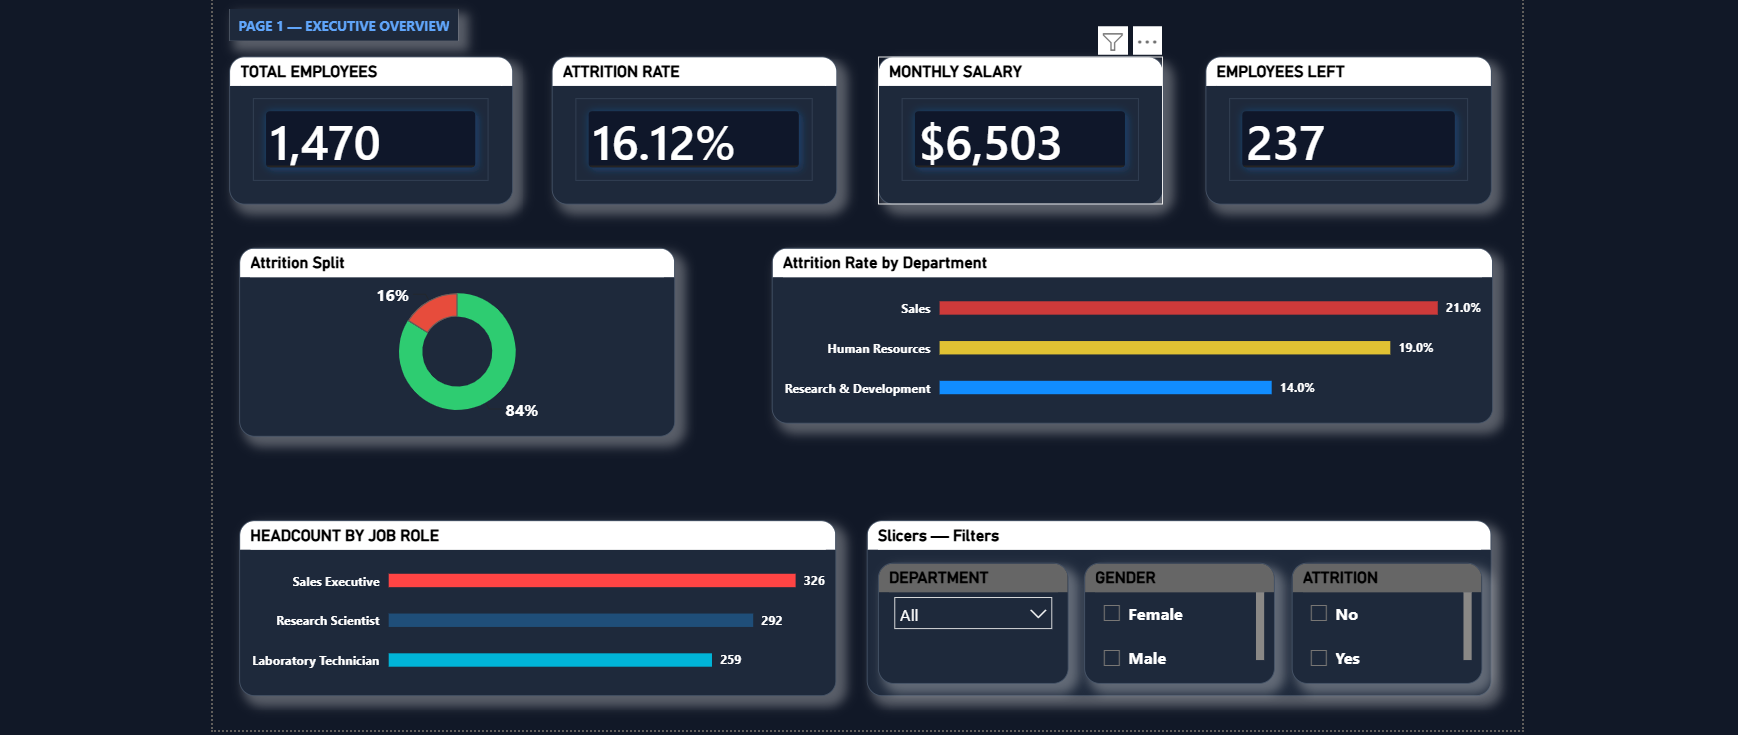

This screenshot's page, from the dashboard's own definition file:
{"tool":"powerbi","page":{"name":"EXECUTIVE OVERVIEW","canvas":[1280,720],"ordinal":0},"visuals":[{"type":"cardVisual","title":"TOTAL EMPLOYEES","fields":{"Data":["powerbi_cost_analysis.Total Employees"]},"box":[15.6,61.3,277.7,144.7],"z":0},{"type":"cardVisual","title":"ATTRITION RATE","fields":{"Data":["powerbi_cost_analysis.Attrition Rate"]},"box":[331.1,61.3,279,144.7],"z":1000},{"type":"cardVisual","title":"MONTHLY SALARY","fields":{"Data":["powerbi_cost_analysis.Avg Salary Display"]},"box":[650.6,61.3,279,144.7],"z":2000},{"type":"cardVisual","title":"EMPLOYEES LEFT","fields":{"Data":["Sum(powerbi_cost_analysis.Employees_Left)"]},"box":[971.3,61.3,280.3,144.7],"z":3000},{"type":"shape","title":"PAGE 1 — EXECUTIVE OVERVIEW","box":[15.6,14.3,224.2,31.3],"z":4000},{"type":"donutChart","title":"Attrition Split ","fields":{"Category":["powerbi_main_data.Attrition"],"Y":["CountNonNull(powerbi_main_data.EmployeeNumber)"]},"box":[26.1,247.7,426.3,185.1],"z":5000},{"type":"clusteredBarChart","title":"Attrition Rate by Department","fields":{"Y":["powerbi_dept_summary.Attrition Rate %"],"Category":["powerbi_dept_summary.Department"]},"box":[546.3,247.7,705.3,172.1],"z":6000},{"type":"clusteredBarChart","title":"HEADCOUNT BY JOB ROLE","fields":{"Y":["CountNonNull(powerbi_main_data.EmployeeNumber)"],"Category":["powerbi_main_data.JobRole"]},"box":[26.1,515,584.1,172.1],"z":7000},{"type":"clusteredBarChart","title":"Slicers — Filters","box":[640.1,515,611.5,172.1],"z":8000},{"type":"slicer","title":"DEPARTMENT","fields":{"Values":["powerbi_main_data.Department"]},"box":[650.6,556.7,186.4,118.6],"z":9000},{"type":"slicer","title":"GENDER","fields":{"Values":["powerbi_main_data.Gender"]},"box":[852.6,556.7,186.4,118.6],"z":10000},{"type":"slicer","title":"ATTRITION","fields":{"Values":["powerbi_main_data.Attrition"]},"box":[1054.7,556.7,186.4,118.6],"z":11000}]}

Visuals, with their boxes on the page's 1280x720 design canvas (x1, y1, x2, y2). These are canvas units, not pixel positions in the 1738x735 screenshot, which may show the page scaled, cropped or inside an application window:
"TOTAL EMPLOYEES" cardVisual: x1=16, y1=61, x2=293, y2=206
"ATTRITION RATE" cardVisual: x1=331, y1=61, x2=610, y2=206
"MONTHLY SALARY" cardVisual: x1=651, y1=61, x2=930, y2=206
"EMPLOYEES LEFT" cardVisual: x1=971, y1=61, x2=1252, y2=206
"PAGE 1 — EXECUTIVE OVERVIEW" shape: x1=16, y1=14, x2=240, y2=46
"Attrition Split " donutChart: x1=26, y1=248, x2=452, y2=433
"Attrition Rate by Department" clusteredBarChart: x1=546, y1=248, x2=1252, y2=420
"HEADCOUNT BY JOB ROLE" clusteredBarChart: x1=26, y1=515, x2=610, y2=687
"Slicers — Filters" clusteredBarChart: x1=640, y1=515, x2=1252, y2=687
"DEPARTMENT" slicer: x1=651, y1=557, x2=837, y2=675
"GENDER" slicer: x1=853, y1=557, x2=1039, y2=675
"ATTRITION" slicer: x1=1055, y1=557, x2=1241, y2=675
